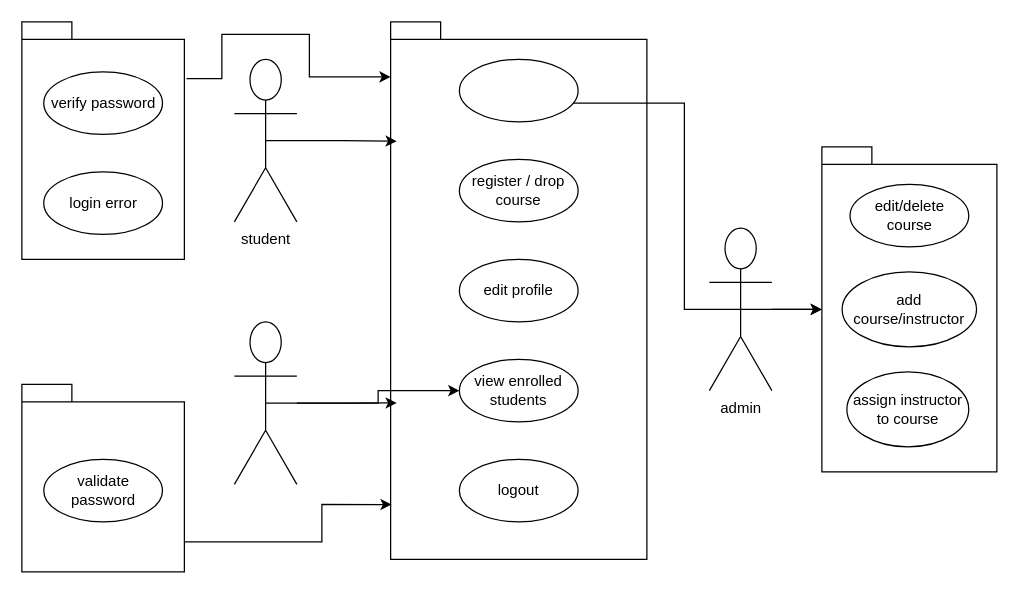
Image size: 1019x604. Some labels were removed from this diagram. Here are the shapes that lost their labels. From the top down, the centre of each, then its label:
point (518, 90): Login
point (265, 402): instructor
